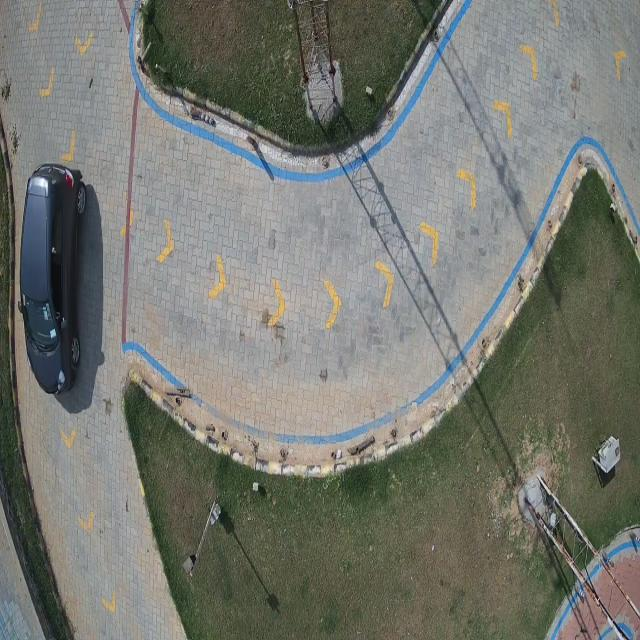car: (19, 162, 86, 394)
